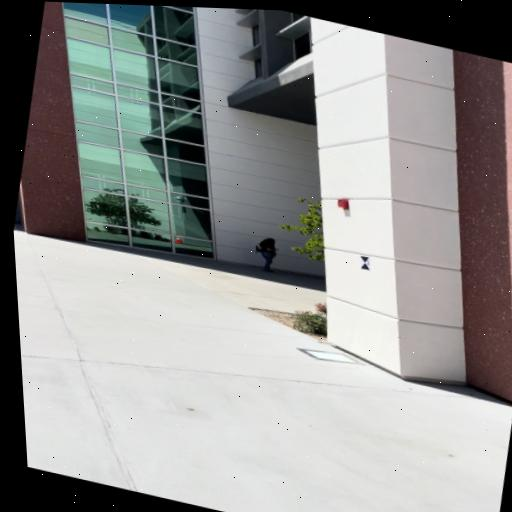target2: (360, 256, 371, 271)
